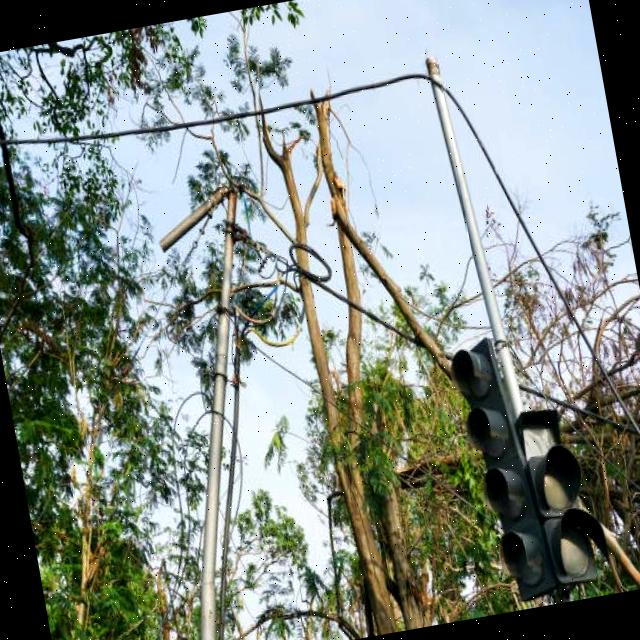Broken Pole: (150, 185, 248, 640)
